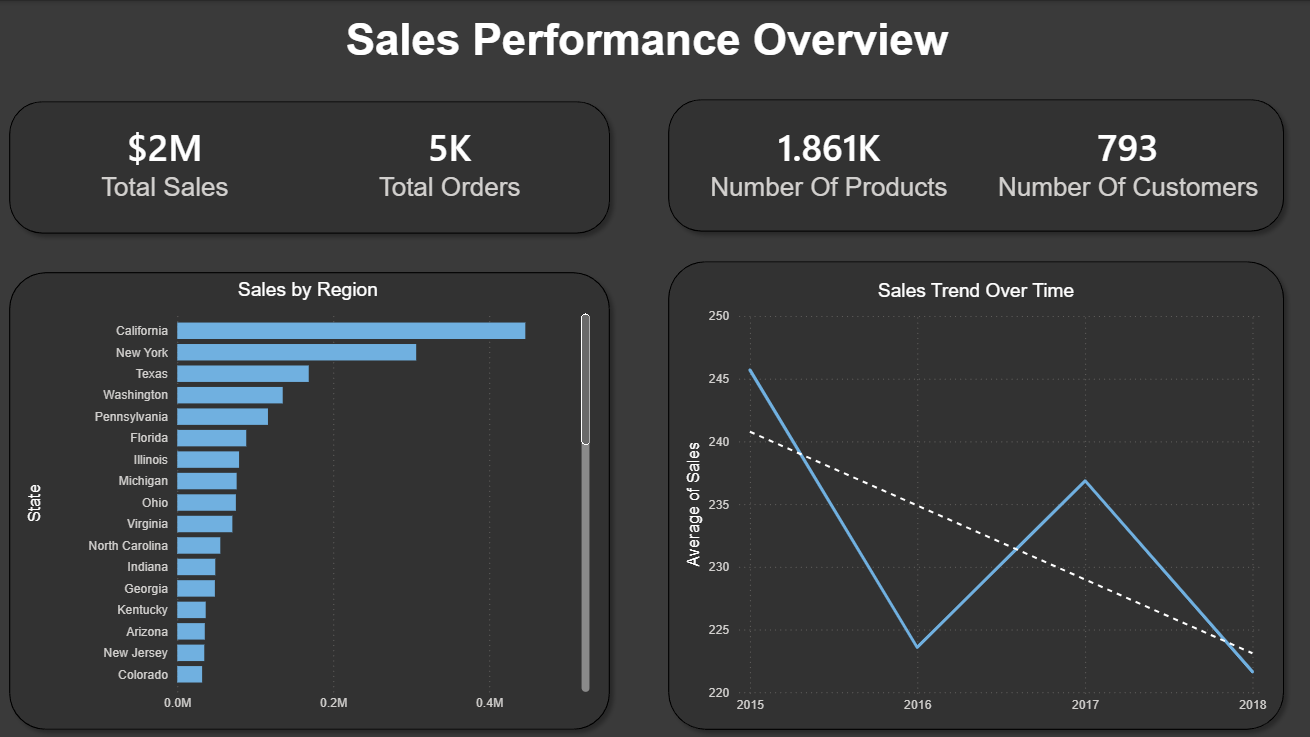

The dashboard page shown, as its layout file describes it:
{"tool":"powerbi","page":{"name":"Sales Performance Overview","canvas":[1280,720],"ordinal":0},"visuals":[{"type":"group","id":"g1","title":"Group 1","box":[0,86.8,1257.4,631.7],"z":0},{"type":"shape","box":[640.6,86.8,616.9,146.6],"z":0,"group":"g1"},{"type":"shape","box":[0,88.7,602.2,146.6],"z":1000,"group":"g1"},{"type":"barChart","title":"Sales by Region","fields":{"Category":["Super_Store_Data.State"],"Y":["Sum(Super_Store_Data.Sales)"]},"box":[20.3,270.7,558.2,428.5],"z":1000},{"type":"shape","box":[0,255.2,602.1,463],"z":2000,"group":"g1"},{"type":"lineChart","title":"Sales Trend Over Time","fields":{"Y":["Avg(Super_Store_Data.Sales)"],"Category":["Super_Store_Data.order_date.Variation.Date Hierarchy.Year","Super_Store_Data.order_date.Variation.Date Hierarchy.Quarter","Super_Store_Data.order_date.Variation.Date Hierarchy.Month","Super_Store_Data.order_date.Variation.Date Hierarchy.Day"]},"box":[661.4,271.4,575.8,428.9],"z":2000},{"type":"cardVisual","fields":{"Data":["Super_Store_Data.Total Sales","Super_Store_Data.Total Orders"]},"box":[9,67.7,581.9,177.1],"z":3000},{"type":"shape","box":[640.6,244.8,616.9,473.7],"z":3000,"group":"g1"},{"type":"cardVisual","fields":{"Data":["Count(Super_Store_Data.Product ID)","Count(Super_Store_Data.Customer ID)"]},"box":[647.8,68.1,609.8,177],"z":4000},{"type":"textbox","box":[223.3,9,810.9,80.1],"z":5000}]}

Visuals, with their boxes in screenshot pixels (x1, y1, x2, y2), scaled from the page's 1280x720 canvas onto the 1310x737 screenshot:
"Group 1" group: region(0, 89, 1287, 735)
shape: region(656, 89, 1287, 239)
shape: region(0, 91, 616, 241)
"Sales by Region" barChart: region(21, 277, 592, 716)
shape: region(0, 261, 616, 735)
"Sales Trend Over Time" lineChart: region(677, 278, 1266, 717)
cardVisual - Super_Store_Data.Total Sales x Super_Store_Data.Total Orders: region(9, 69, 605, 251)
shape: region(656, 251, 1287, 735)
cardVisual - Count(Super_Store_Data.Product ID) x Count(Super_Store_Data.Customer ID): region(663, 70, 1287, 251)
textbox: region(229, 9, 1058, 91)
